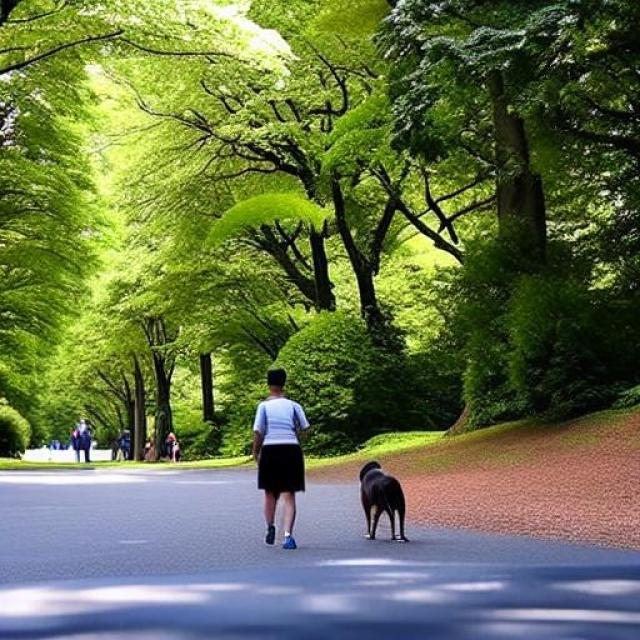Unleashed_Dog: (258, 444, 408, 544)
